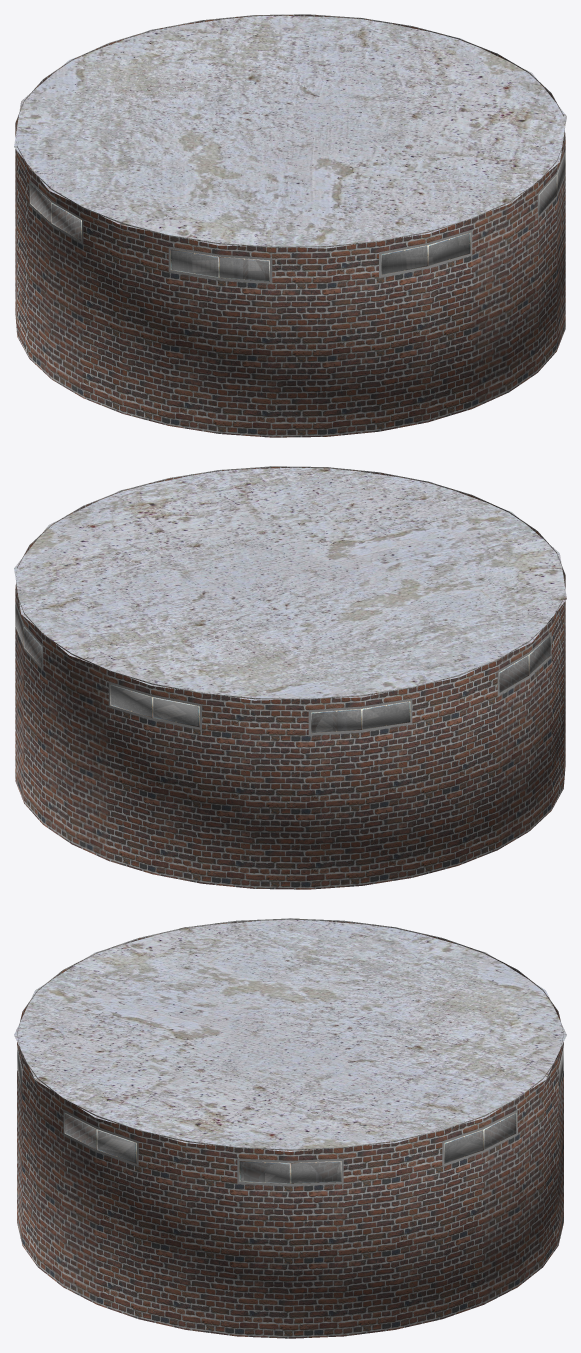
The model's file is room.gltf.
The picture shows the model from 3 angles, top to bottom: view 1: azimuth 30°, elevation 25°; view 2: azimuth 150°, elevation 25°; view 3: azimuth 270°, elevation 25°; orthographic projection.
Parts seen in each view (by area): view 1: walls, ceiling, windows; view 2: walls, ceiling, windows; view 3: walls, ceiling, windows.
Part boxes in pixels (x1,y1,x2,y2): walls: [15, 14, 565, 437]; ceiling: [14, 15, 566, 248]; windows: [30, 153, 565, 281]; walls: [15, 466, 565, 889]; ceiling: [14, 467, 566, 700]; windows: [15, 605, 550, 733]; walls: [17, 918, 563, 1338]; ceiling: [14, 918, 566, 1151]; windows: [17, 1048, 563, 1183].
Bounding box in the file's own units: 21.32 × 8.05 × 21.32.
Materials: 4 (4 with a texture image).
